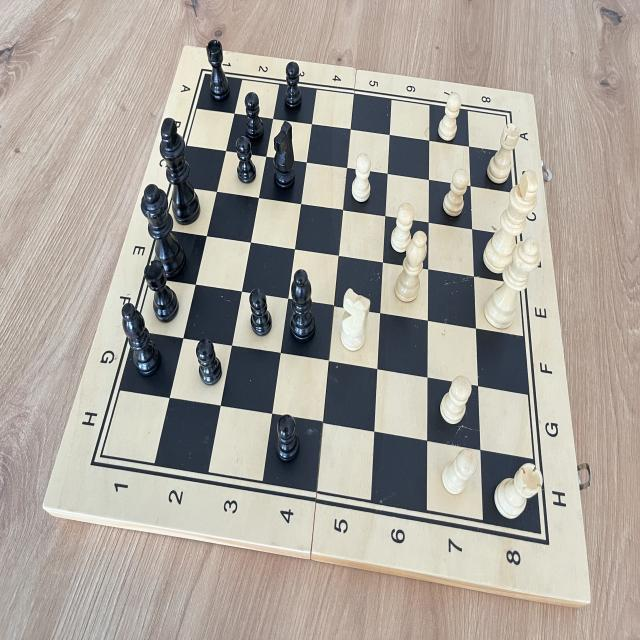black-bishop: (115, 299, 166, 380), (280, 266, 320, 346)
black-king: (153, 112, 206, 229)
black-knight: (268, 117, 300, 196)
black-pawn: (270, 408, 304, 470), (191, 334, 228, 390), (278, 58, 308, 116), (244, 284, 275, 339), (231, 134, 259, 188), (241, 90, 266, 148)
black-queen: (133, 180, 190, 281)
black-rook: (142, 260, 182, 326), (203, 34, 237, 106)
white-bishop: (391, 228, 428, 308)
white-king: (476, 166, 542, 284)
white-knight: (336, 283, 372, 359)
white-pawn: (436, 443, 482, 502), (435, 372, 476, 436), (386, 198, 418, 261), (434, 88, 464, 147), (441, 166, 472, 223), (349, 150, 376, 208)
white-queen: (480, 236, 544, 336)
white-rook: (488, 456, 546, 528), (482, 120, 522, 191)
